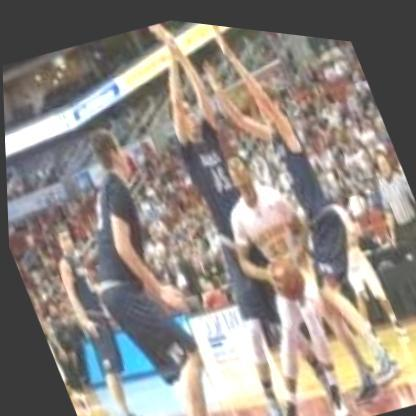basketball: (258, 241, 312, 302)
